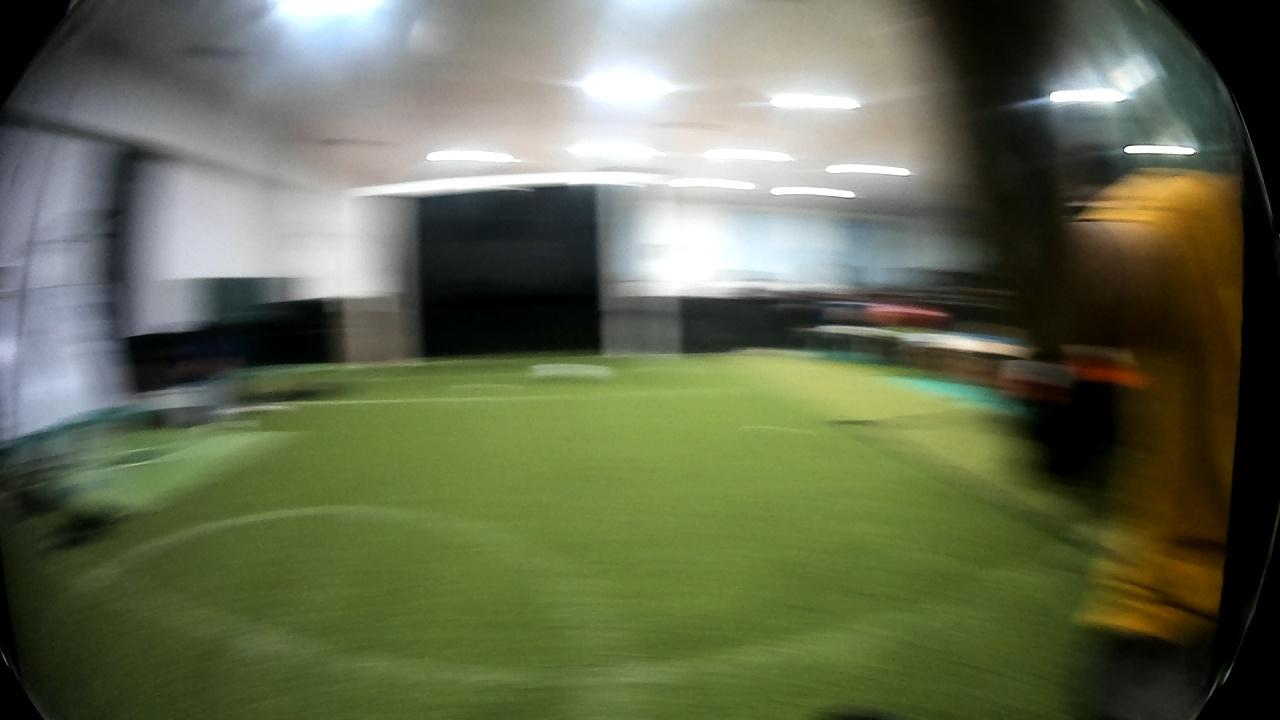ball: (523, 359, 612, 386)
